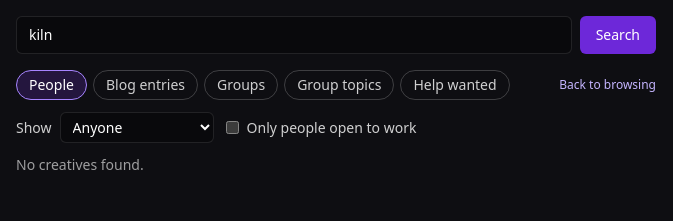
Test: SearchPage: searching › offers every kind, and searching another kind keeps the question
Click the tab "Blog entries" at [146, 85], box [93, 70, 198, 100]
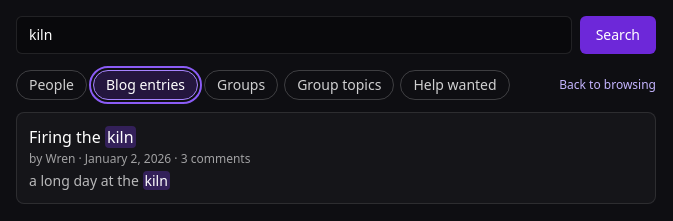
Now the text "by Wren · January 2, 2026 · 3 comments" is shown, box [29, 150, 250, 167]
Now the label labelled "Show" is gone
